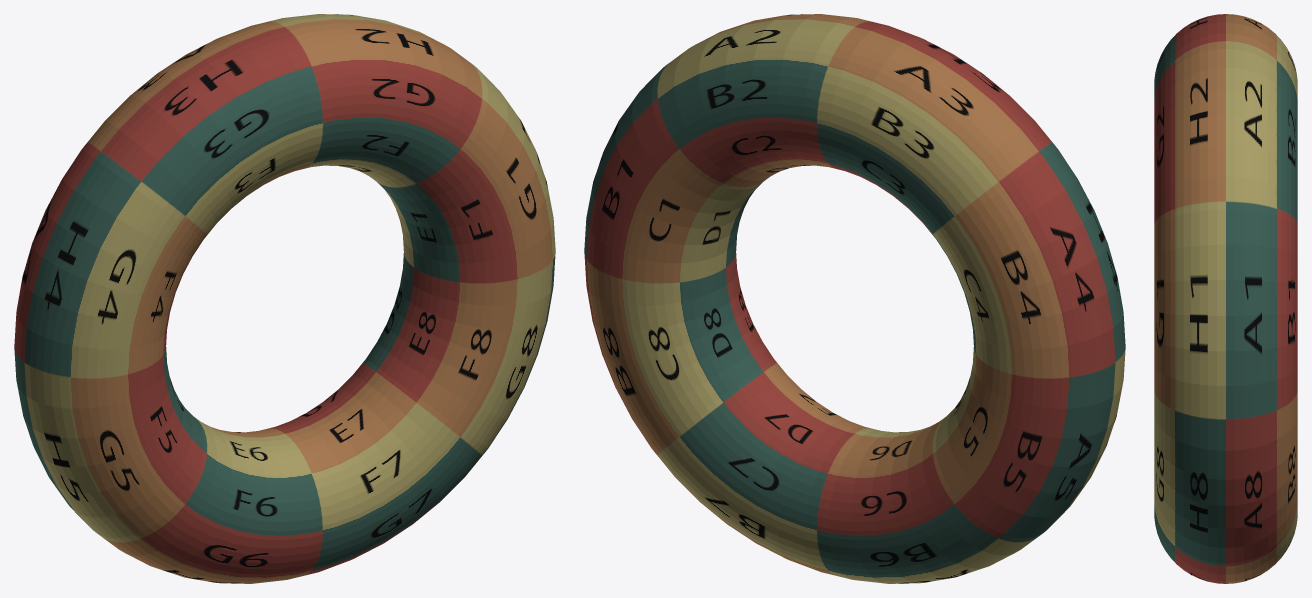
Rendered from texture_torus_R1_r6.glb.
3 views of the same model, side by side, from view 1: azimuth 30°, elevation 25°; view 2: azimuth 150°, elevation 25°; view 3: azimuth 270°, elevation 25° (orthographic). The views are drawn at different scales.
Visible parts, largest first — view 1: world; view 2: world; view 3: world.
Boxes of the visible parts, left/top/right/bottom form: world: left=14, top=14, right=555, bottom=583; world: left=584, top=14, right=1125, bottom=583; world: left=1154, top=14, right=1297, bottom=583.
Bounding box in the file's own units: 14.27 × 14.24 × 3.59.
1 material, 1 textured.
